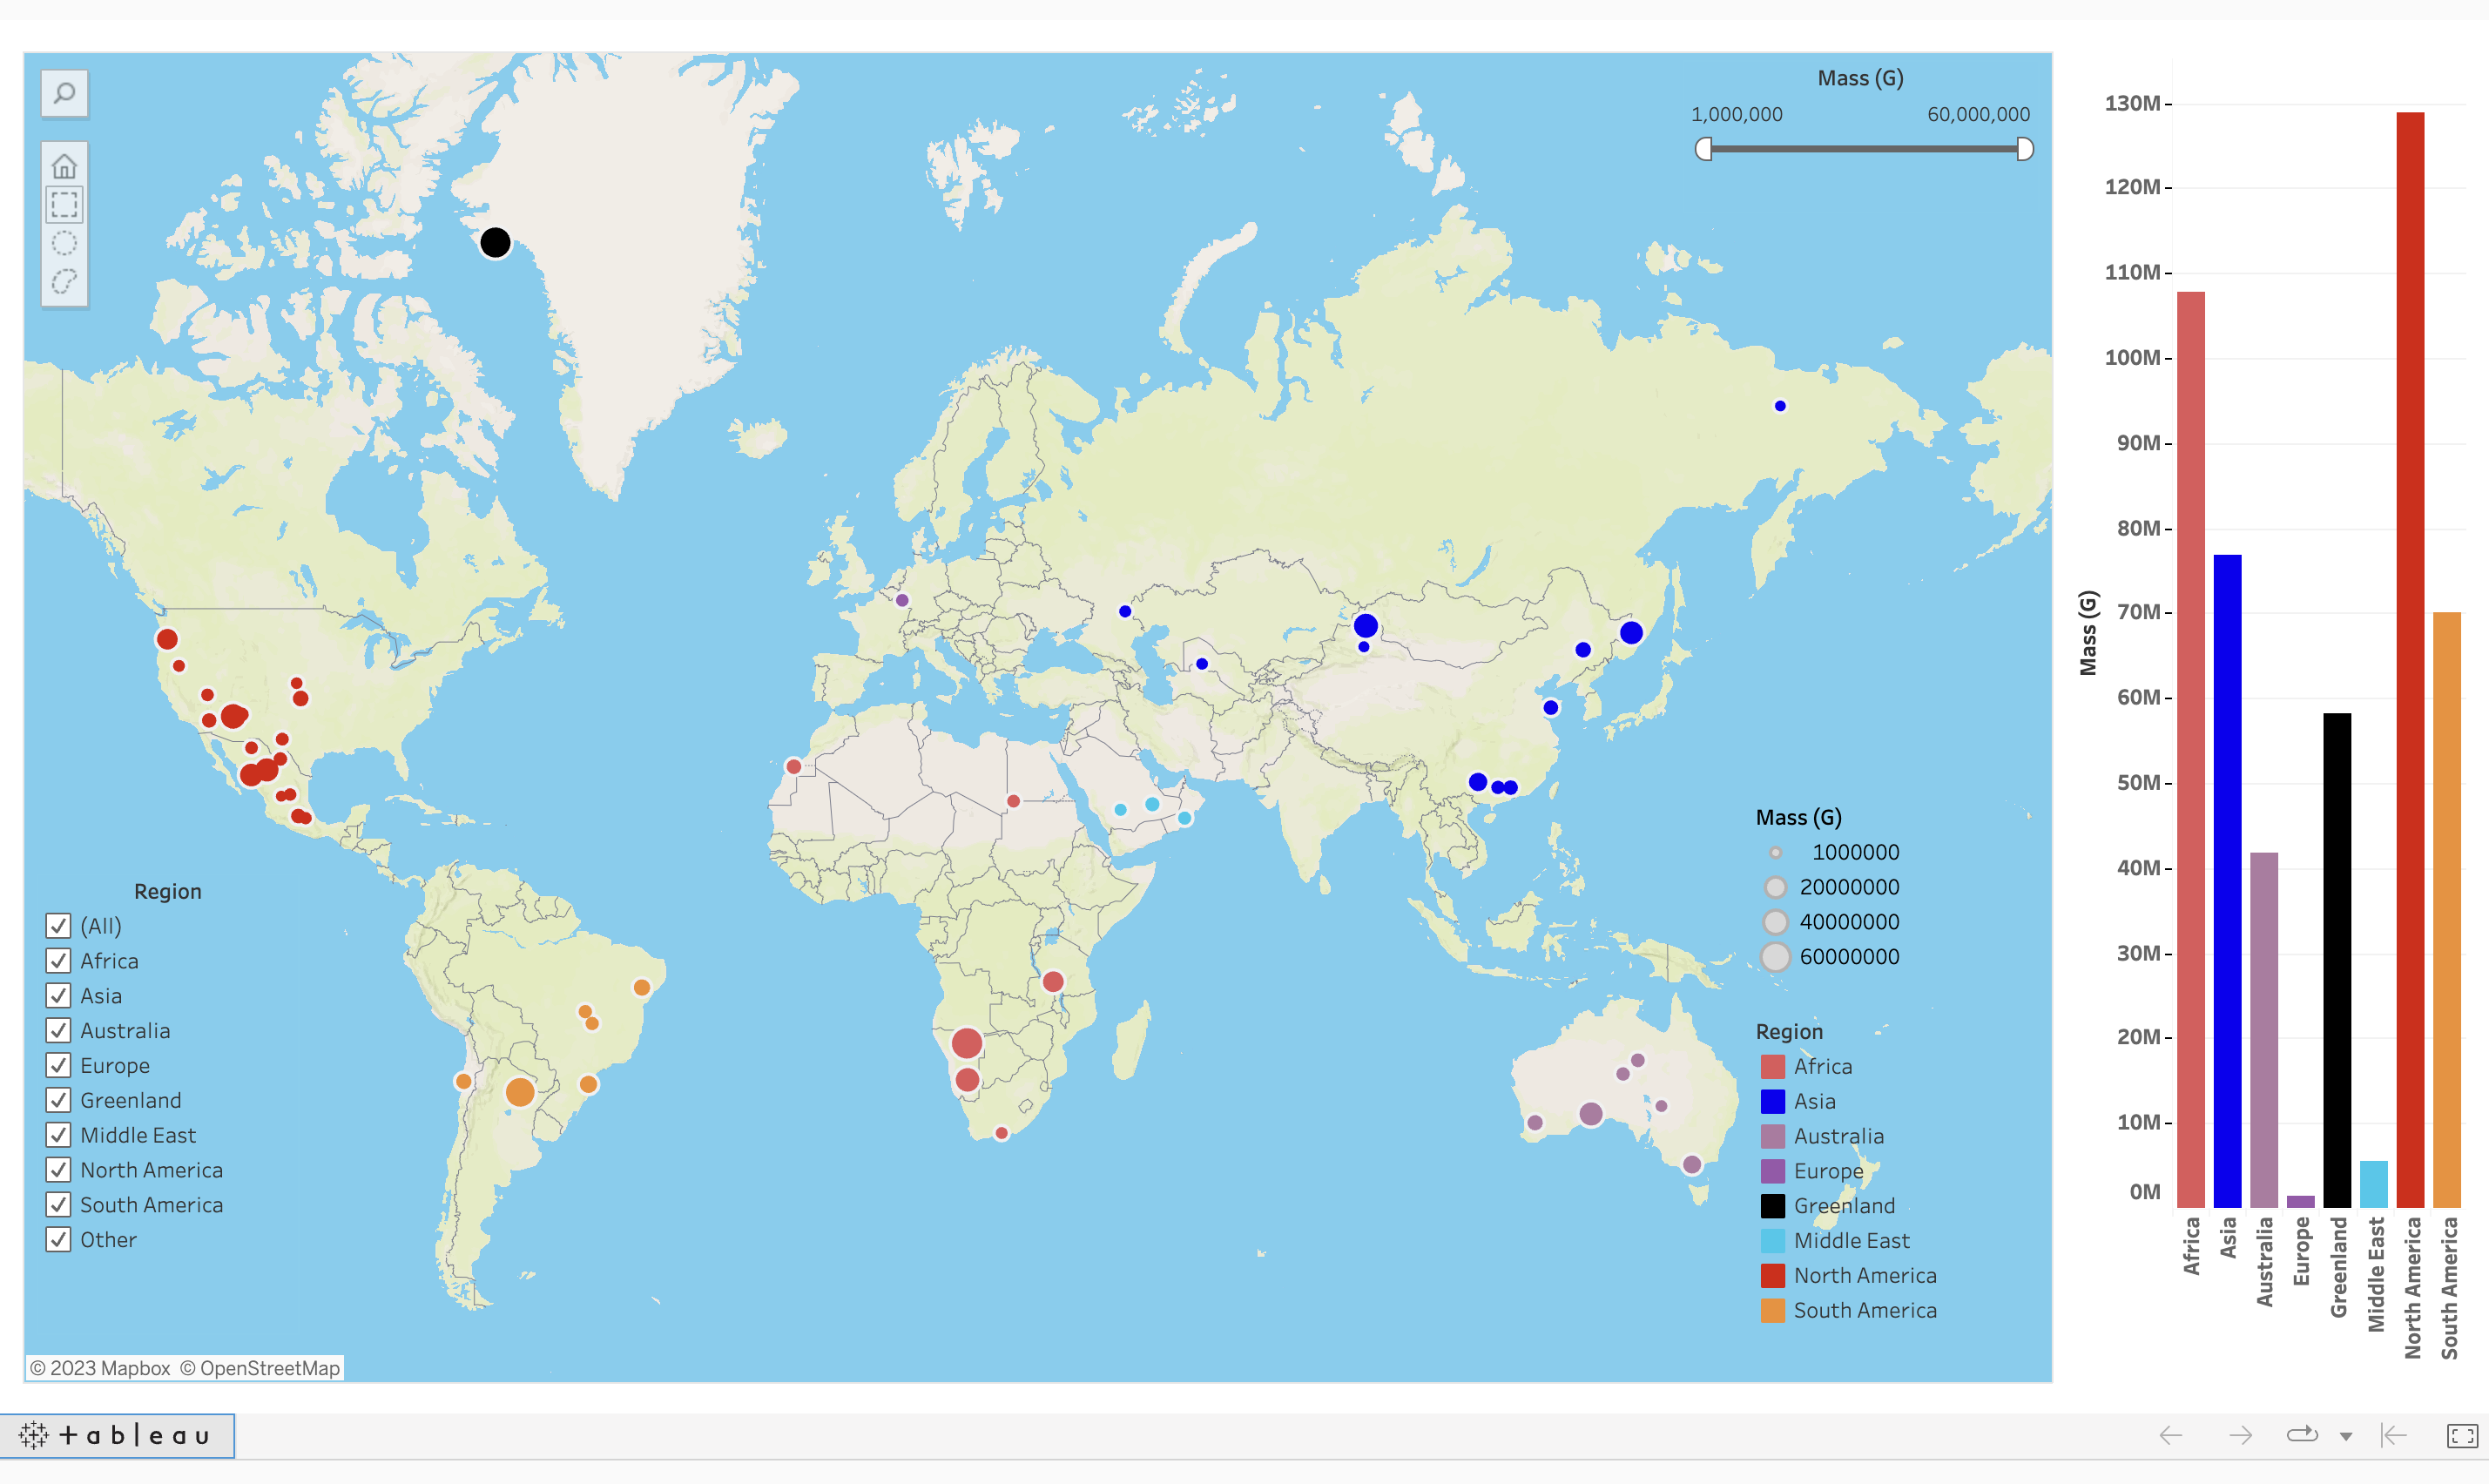

What the dashboard file says about the page in this screenshot:
{"tool":"tableau","page":{"name":"Dashboard 1","canvas":[1000,1000],"units":"permille","ordinal":0},"visuals":[{"type":"worksheet","title":"Sheet 1","mark":"Circle","rows":["reclat"],"cols":["reclong"],"box":[13,23,810.2,955.5]},{"type":"worksheet","title":"Sheet 2","mark":"Automatic","rows":["mass (g)"],"box":[825.6,27.3,162.2,949.8]},{"type":"filter","title":"Sheet 1","param":"[federated.1iy3f660zlylrv139g4mt0f8367o].[none:mass (g):qk]","box":[674.8,28.7,142.7,110.5]},{"type":"legend","title":"Sheet 1","param":"[federated.1iy3f660zlylrv139g4mt0f8367o].[none:mass (g):qk]","box":[704,561,113.5,140.6]},{"type":"filter","title":"Sheet 1","param":"[federated.1iy3f660zlylrv139g4mt0f8367o].[Geo Location & Mass (G) (group)]","box":[18.7,612.6,104.6,331.4]},{"type":"legend","title":"Sheet 2","param":"[federated.1iy3f660zlylrv139g4mt0f8367o].[Geo Location & Mass (G) (group)]","box":[704,714.5,113.5,255.4]}]}

Visuals, with their boxes on the dashboard's canvas, which has no fixed pixel size, in thousandths of its width and height (x1, y1, x2, y2). These are canvas units, not pixel positions in the 2489x1484 screenshot, which may show the page scaled, cropped or inside an application window:
"Sheet 1" worksheet (Circle marks): 13, 23, 823, 978
"Sheet 2" worksheet: 826, 27, 988, 977
"Sheet 1" filter: 675, 29, 818, 139
"Sheet 1" legend: 704, 561, 818, 702
"Sheet 1" filter: 19, 613, 123, 944
"Sheet 2" legend: 704, 714, 818, 970
